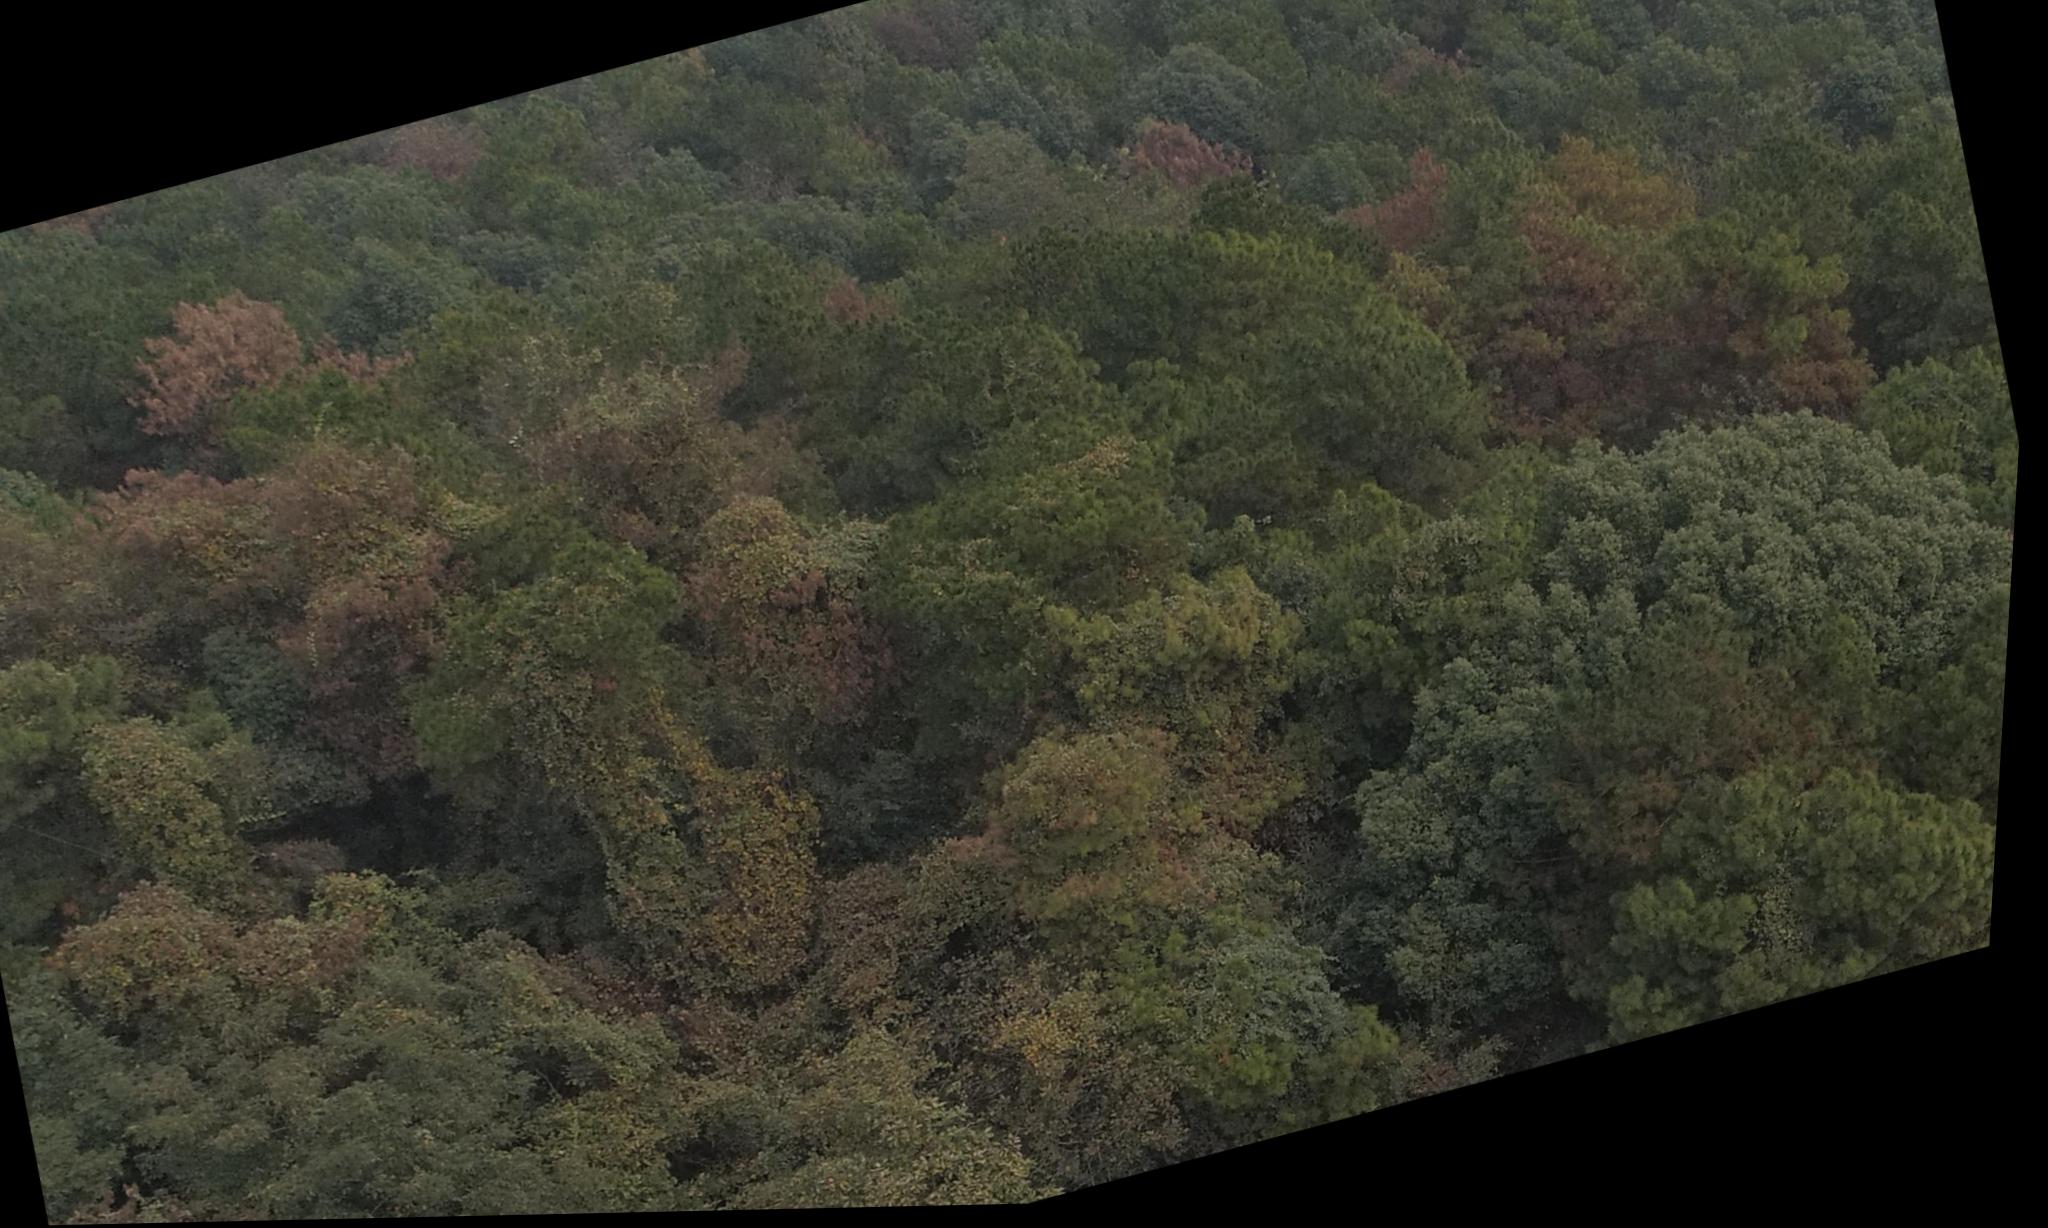heavy: (108, 234, 396, 463)
light: (1438, 91, 1849, 465)
